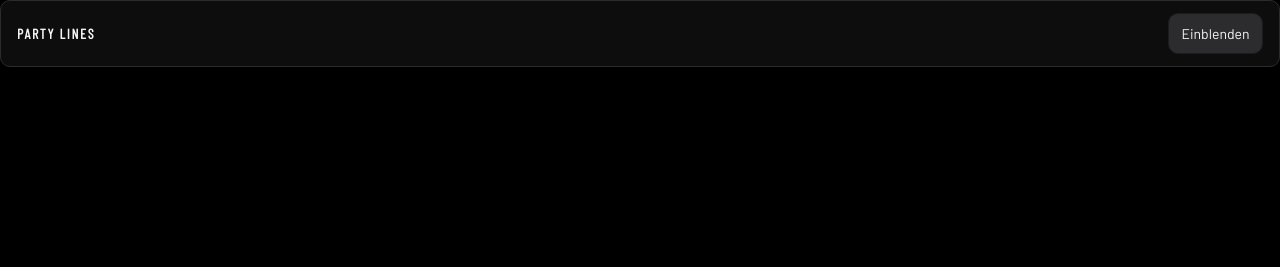
Test: AdminRoomsCard › toggles open and closed
Expected: the heading "Party Lines (1)" is not shown
Click the button "Einblenden" at [1216, 34], box x1=1168 y1=13 x2=1263 y2=54
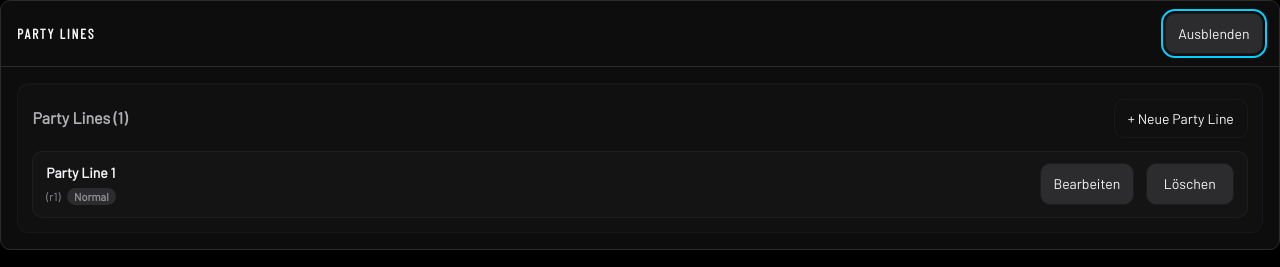
Result: the heading "Party Lines (1)" is shown at x1=32 y1=107 x2=127 y2=130
Click the button "Ausblenden" at [1214, 34], box x1=1165 y1=13 x2=1263 y2=54
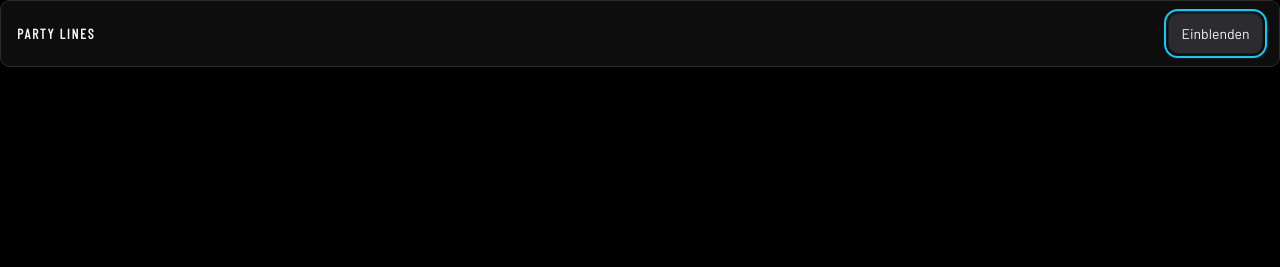
Result: the heading "Party Lines (1)" is gone
